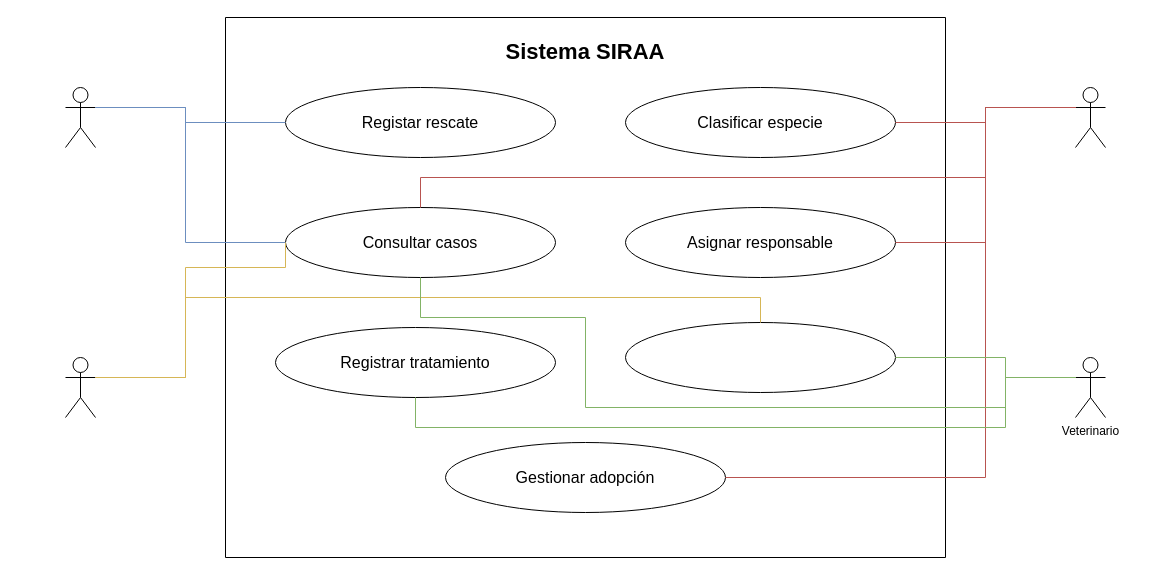
This 1174x575 diagram has some shape labels left out. The shapes that lost their labels are listed below. From the top down, each one's box as (x1, y1, x2, y2) in pixels, then its label:
(64, 86, 96, 148): Ciudadano / Reportante
(1074, 86, 1106, 148): Administrador del refugio
(624, 322, 896, 392): Actualizar estado del rescate
(64, 356, 96, 418): Voluntario
